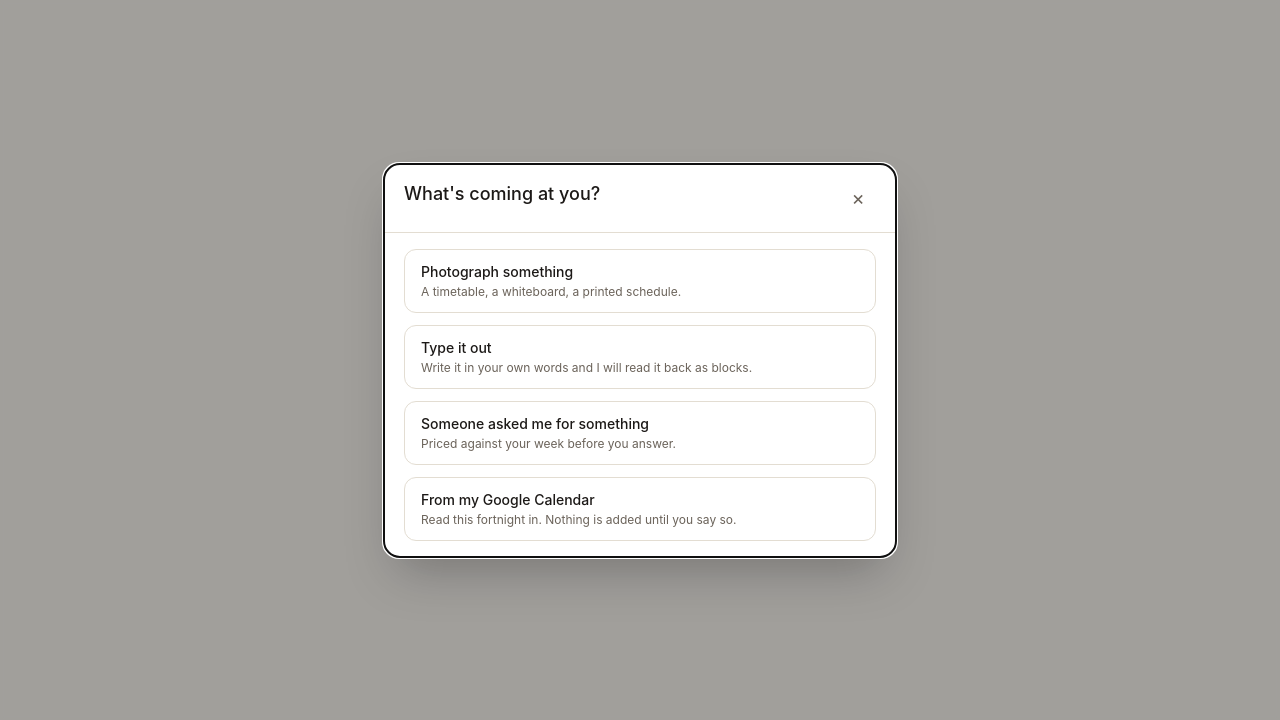
Test: AddSheet › returns to the choice when a path is stepped back from, rather than closing outright
The width and height of the screenshot is (1280, 720).
Step 1. Click the button with test id "add-type" → x=640, y=356, box x1=404 y1=324 x2=876 y2=388
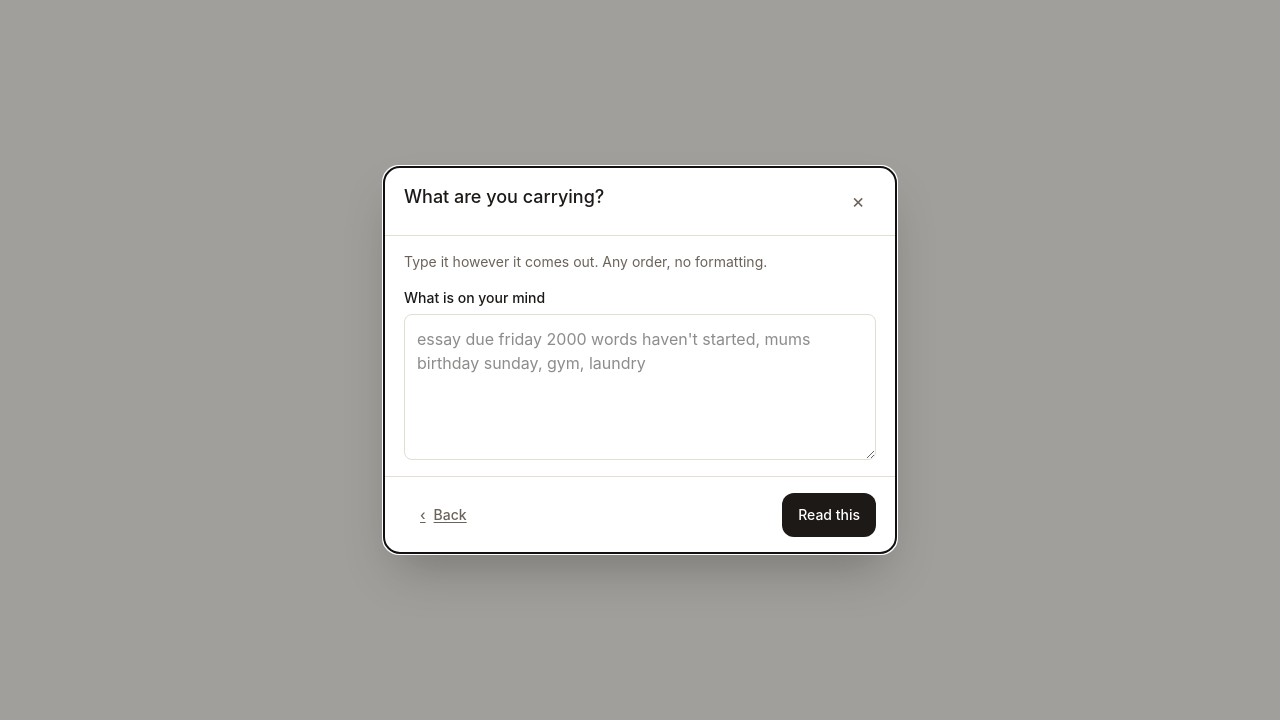
Step 2. Click the button with test id "sheet-back" → x=443, y=515, box x1=404 y1=493 x2=483 y2=537
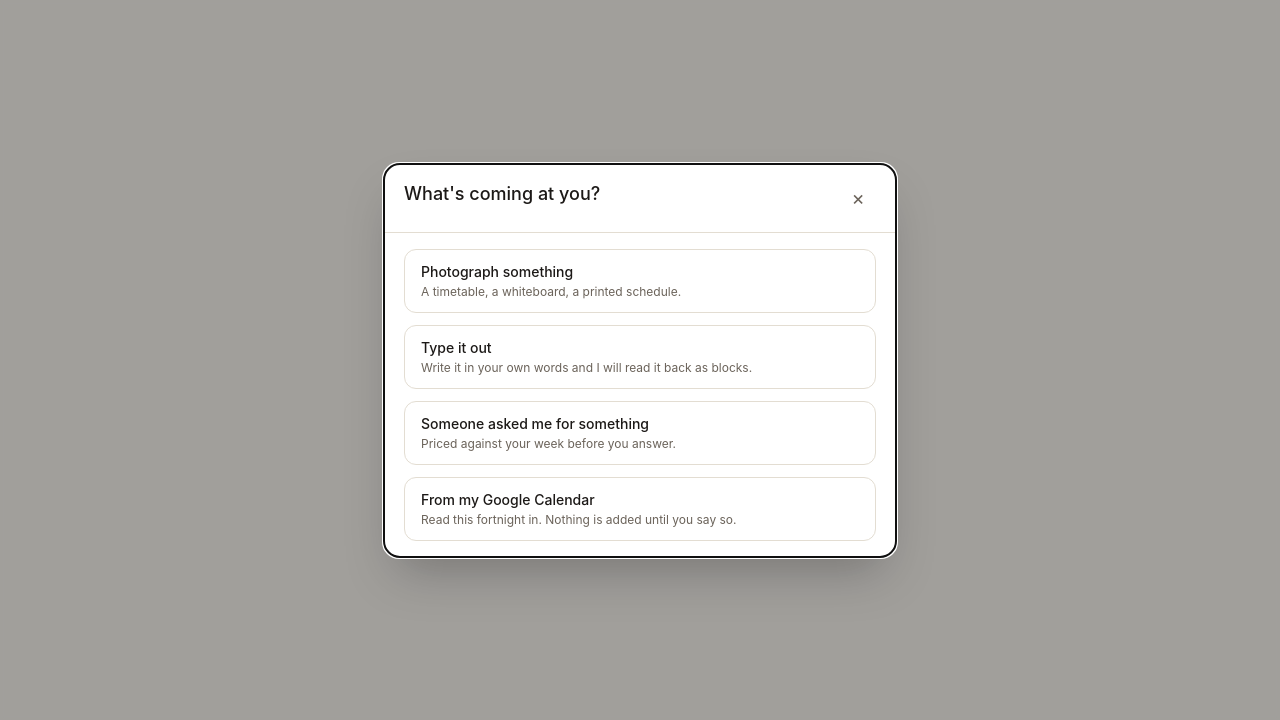
Expected: the button with test id "add-type" is shown, x1=404 y1=324 x2=876 y2=388
